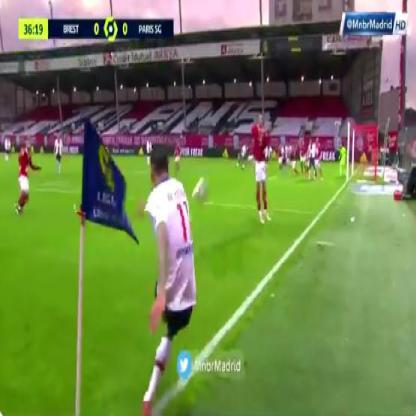corner kick: (60, 103, 224, 416)
